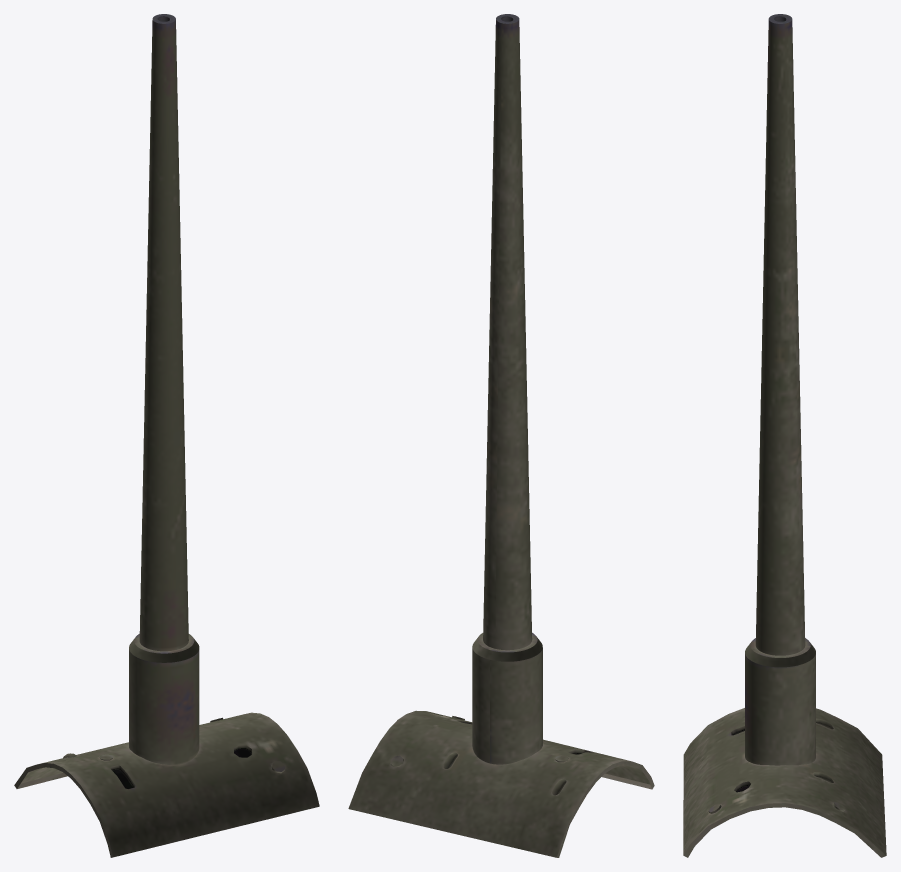
File: Gun_04.glb
The picture shows the model from 3 angles, left to right: view 1: azimuth 30°, elevation 25°; view 2: azimuth 150°, elevation 25°; view 3: azimuth 270°, elevation 25°; orthographic projection.
Visible parts, largest first — view 1: set_0_group_0; view 2: set_0_group_0; view 3: set_0_group_0.
Part boxes in pixels (x1,y1,x2,y2): set_0_group_0: (14,14,319,857); set_0_group_0: (348,14,654,857); set_0_group_0: (683,14,886,857).
Bounding box in the file's own units: 0.4978 × 1.8 × 0.4207.
1 material, 1 textured.
